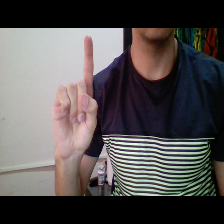2T: (48, 32, 103, 164)
